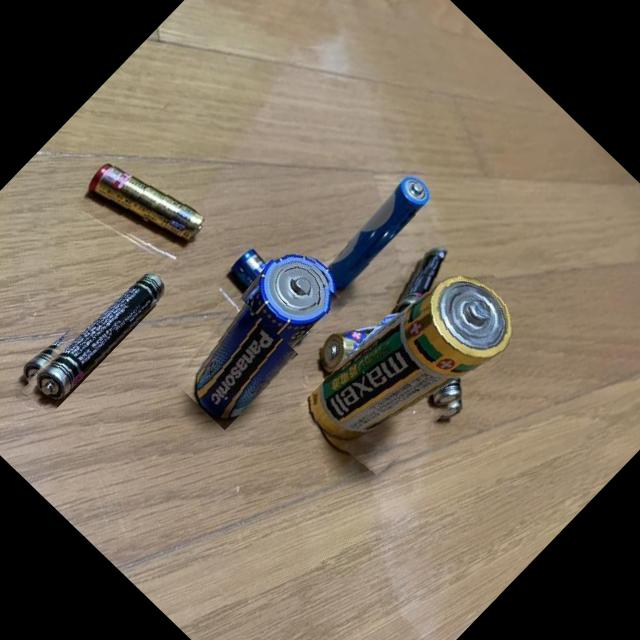Hazard: (294, 242, 543, 494), (161, 234, 356, 431), (8, 250, 172, 418), (308, 162, 442, 300), (77, 142, 213, 276), (304, 283, 436, 415), (218, 242, 336, 356), (372, 234, 476, 340), (419, 372, 482, 434)
